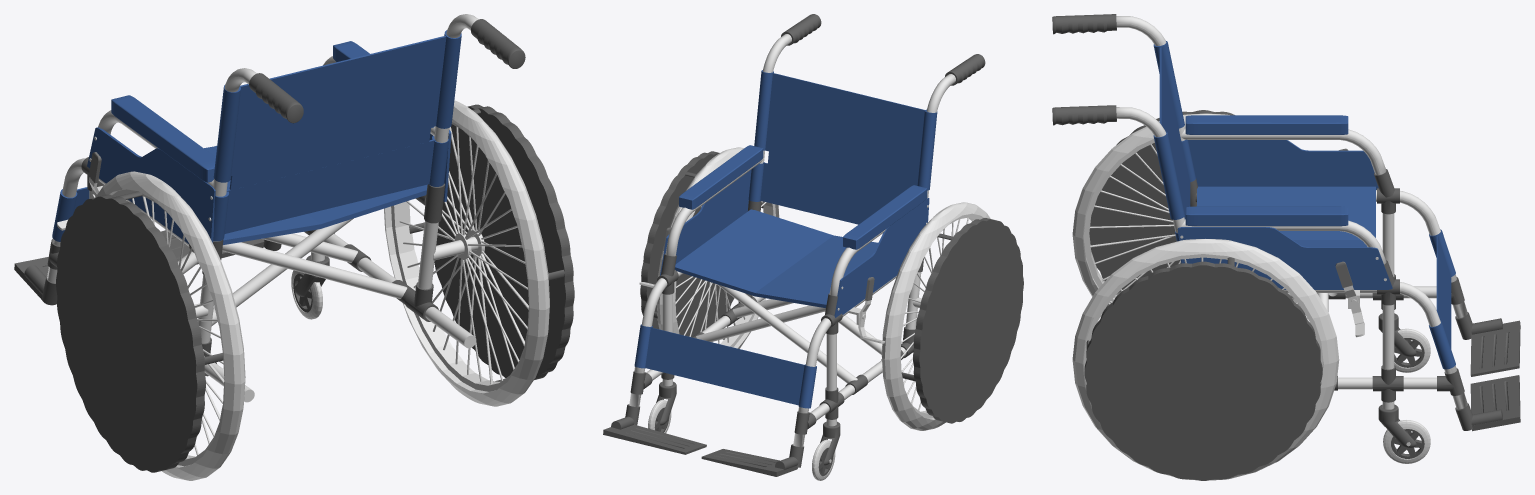
File: WheelChair.fbx
The picture shows the model from 3 angles, left to right: view 1: azimuth 30°, elevation 25°; view 2: azimuth 150°, elevation 25°; view 3: azimuth 270°, elevation 25°; orthographic projection. The views are drawn at different scales.
Parts seen in each view (by area): view 1: 円柱.065, 立方体.007, 円柱.138, 球.001, 球, 立方体.006, 立方体, 立方体.004, 円柱.091, 円柱.141, 円柱.156, 円柱.142 (+15 smaller); view 2: 立方体.007, 円柱.065, 立方体.004, 立方体.008, 球, 円柱.138, 立方体.006, 立方体.005, 立方体, 立方体.002, 立方体.003, 円柱.140 (+25 smaller); view 3: 円柱.138, 球.001, 立方体.006, 円柱.065, 立方体.005, 立方体.004, 立方体.002, 立方体, 球, 立方体.001, 立方体.003, 立方体.007 (+28 smaller).
Boxes of the visible parts, x1,y1,x2,y2 form: 円柱.065: (56, 194, 205, 472); 立方体.007: (224, 36, 446, 233); 円柱.138: (434, 104, 574, 379); 球.001: (384, 100, 549, 406); 球: (96, 171, 245, 480); 立方体.006: (87, 127, 215, 243); 立方体: (111, 95, 215, 182); 立方体.004: (204, 145, 427, 244); 円柱.091: (391, 122, 523, 391); 円柱.141: (222, 242, 407, 298); 円柱.156: (213, 85, 240, 182); 円柱.142: (211, 218, 353, 325); 立方体.007: (760, 73, 924, 224); 円柱.065: (913, 218, 1023, 423); 立方体.004: (674, 209, 877, 308); 立方体.008: (645, 327, 804, 405); 球: (881, 202, 990, 430); 円柱.138: (640, 151, 734, 337); 立方体.006: (834, 198, 929, 317); 立方体.005: (660, 169, 751, 275); 立方体: (843, 185, 927, 249); 立方体.002: (679, 145, 763, 209); 立方体.003: (603, 424, 706, 454); 円柱.140: (716, 284, 857, 383); 円柱.138: (1084, 261, 1322, 480); 球.001: (1072, 239, 1339, 480); 立方体.006: (1188, 140, 1378, 189); 円柱.065: (1089, 110, 1234, 294); 立方体.005: (1177, 227, 1392, 289); 立方体.004: (1197, 186, 1375, 247); 立方体.002: (1185, 206, 1348, 226); 立方体: (1185, 115, 1348, 134); 球: (1072, 113, 1300, 307); 立方体.001: (1470, 320, 1520, 376); 立方体.003: (1470, 375, 1520, 431); 立方体.007: (1159, 47, 1190, 219).
Bounding box in the file's own units: 9.04 × 9.72 × 11.52.
